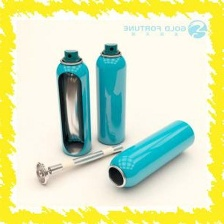aerosol_cans: (105, 117, 197, 190), (53, 45, 95, 161), (95, 39, 130, 149)
